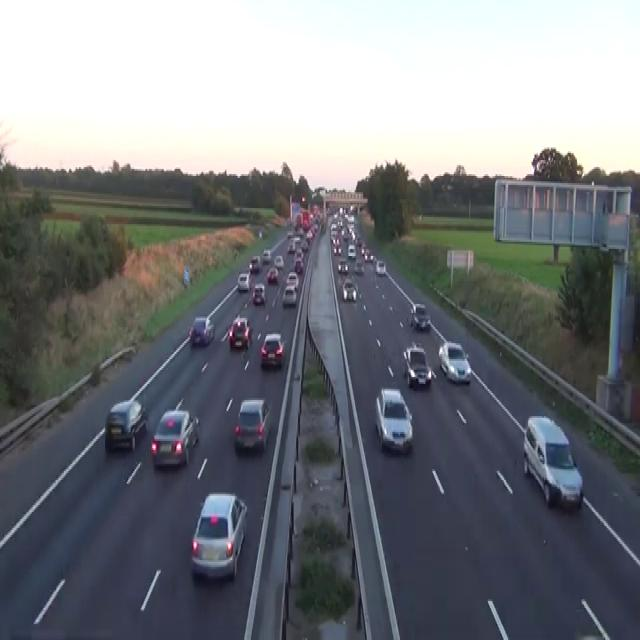Car: (522, 414, 583, 510), (190, 491, 247, 581), (150, 407, 200, 468), (374, 386, 413, 453), (104, 398, 147, 452), (234, 398, 270, 452), (438, 341, 471, 384), (402, 343, 432, 388), (260, 332, 284, 367), (188, 314, 214, 346), (228, 316, 252, 348), (410, 302, 430, 331), (342, 278, 357, 300), (282, 284, 297, 306), (285, 270, 299, 290), (252, 283, 265, 304), (237, 272, 250, 290), (248, 254, 261, 272), (266, 266, 278, 282), (337, 258, 348, 274), (273, 254, 284, 268), (375, 260, 385, 274), (261, 249, 271, 263), (354, 260, 364, 274), (293, 258, 303, 272), (347, 244, 356, 258), (364, 249, 374, 261), (293, 235, 301, 249), (294, 249, 303, 261), (287, 240, 295, 252), (342, 228, 350, 240), (306, 229, 313, 242), (300, 240, 308, 251), (333, 244, 341, 254), (354, 233, 361, 243), (360, 244, 365, 254), (287, 230, 293, 238), (258, 230, 262, 238)
